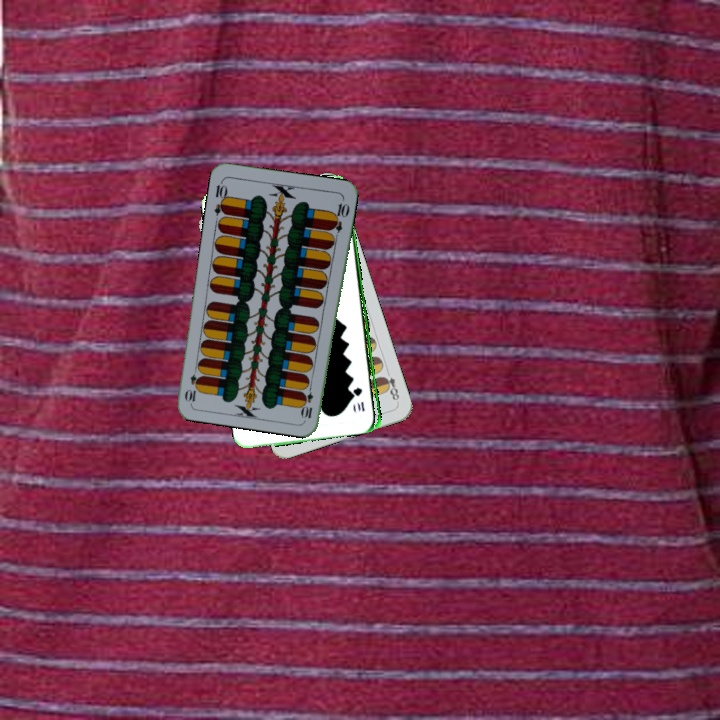E10: (210, 177, 230, 217), (300, 380, 316, 421)
E8: (378, 366, 402, 406)
G10: (352, 383, 367, 414)
